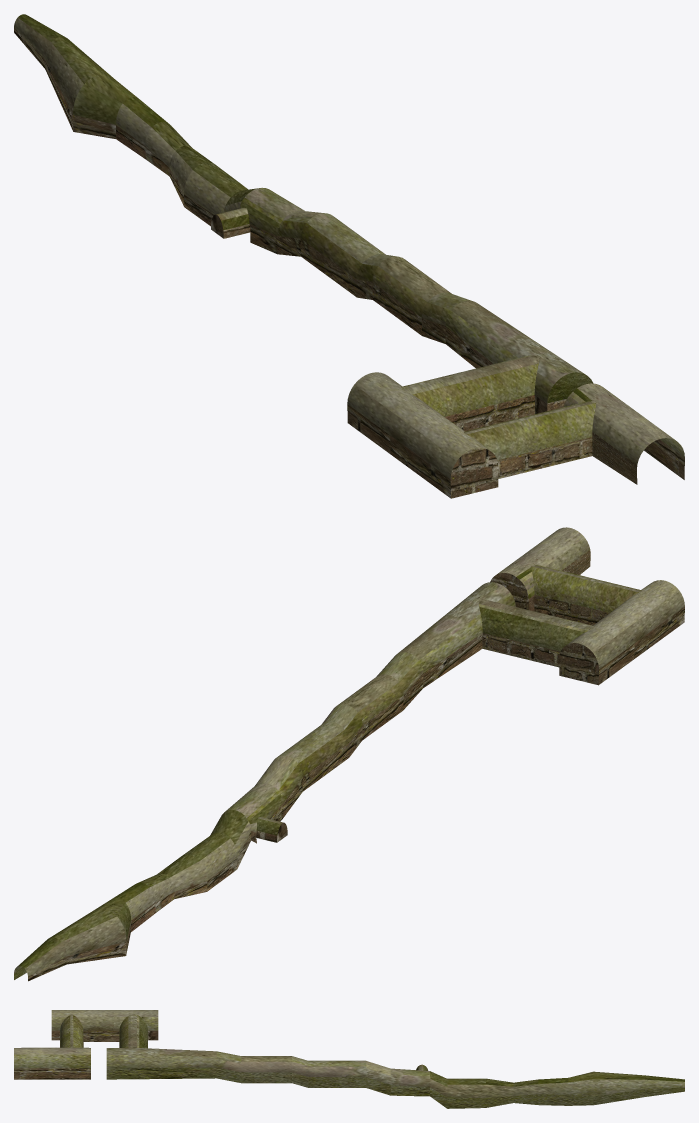
File: Kanal_top.fbx
3 views of the same model, one above another, from view 1: azimuth 30°, elevation 25°; view 2: azimuth 150°, elevation 25°; view 3: azimuth 270°, elevation 25° (orthographic). The views are drawn at different scales.
Parts seen in each view (by area): view 1: Cylinder.004; view 2: Cylinder.004; view 3: Cylinder.004.
Part boxes in pixels (left/top/right/bottom): Cylinder.004: left=14, top=14, right=684, bottom=498; Cylinder.004: left=14, top=527, right=684, bottom=981; Cylinder.004: left=14, top=1010, right=684, bottom=1108.
Size of the model in its own units: 818680 by 144000 by 73914.
